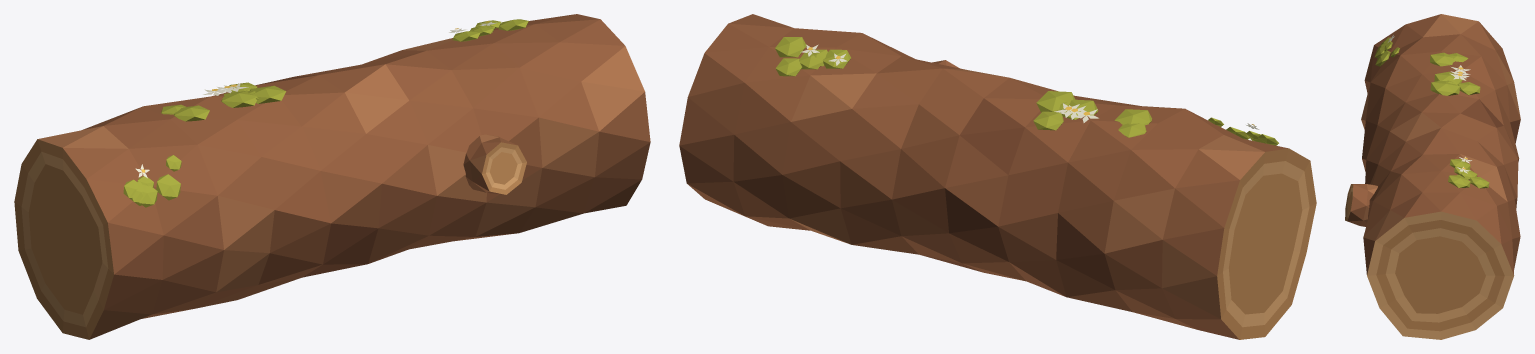
The model's file is Log.fbx.
3 views of the same model, side by side, from view 1: azimuth 30°, elevation 25°; view 2: azimuth 150°, elevation 25°; view 3: azimuth 270°, elevation 25° (orthographic). The views are drawn at different scales.
Parts seen in each view (by area): view 1: Log; view 2: Log; view 3: Log.
Boxes of the visible parts, x1,y1,x2,y2 form: Log: [14, 14, 650, 339]; Log: [679, 14, 1316, 339]; Log: [1345, 14, 1520, 339].
Bounding box in the file's own units: 1.6 × 0.553 × 0.6078.
